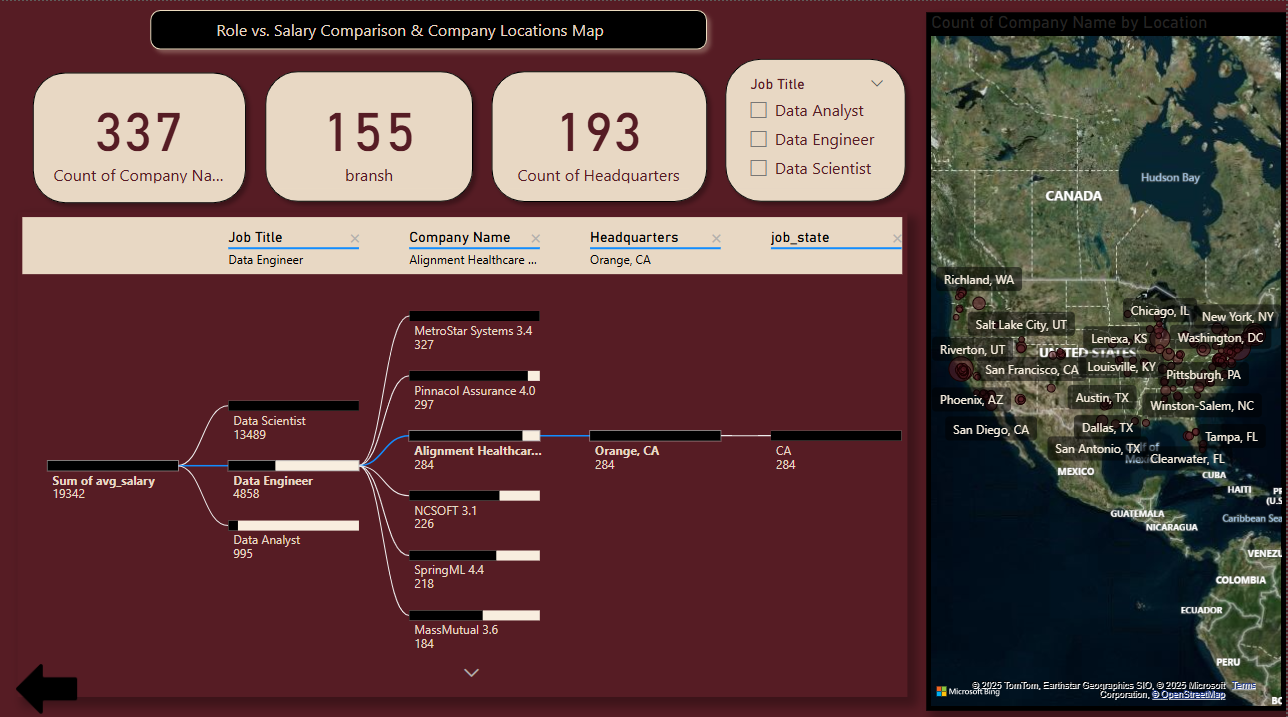

The page's visual inventory and layout, read from the dashboard file:
{"tool":"powerbi","page":{"name":"location","canvas":[1280,720],"ordinal":3},"visuals":[{"type":"decompositionTreeVisual","fields":{"Analyze":["Sum(salary_data_cleaned.avg_salary)"],"ExplainBy":["salary_data_cleaned.Job Title","salary_data_cleaned.Company Name","salary_data_cleaned.Headquarters","salary_data_cleaned.job_state"]},"box":[17.4,210.2,885.7,482.7],"z":0},{"type":"map","fields":{"Category":["salary_data_cleaned.Location"],"Size":["CountNonNull(salary_data_cleaned.Company Name)"]},"box":[921.8,11.2,358.3,695.4],"z":1000},{"type":"shape","box":[23.6,62.2,230.1,148],"z":2000},{"type":"shape","box":[255.3,61.2,225.2,148],"z":3000},{"type":"shape","box":[480.4,61.2,232.6,148],"z":4000},{"type":"shape","box":[712.8,48.5,197.8,160.5],"z":5000},{"type":"slicer","fields":{"Values":["salary_data_cleaned.Job Title"]},"box":[733.9,69.7,158,116.9],"z":6000},{"type":"card","fields":{"Values":["Count(salary_data_cleaned.Company Name)"]},"box":[45.5,81.6,184.1,104.5],"z":7000},{"type":"card","fields":{"Values":["salary_data_cleaned.bransh"]},"box":[274.4,81.6,185.3,104.5],"z":8000},{"type":"card","fields":{"Values":["Count(salary_data_cleaned.Headquarters)"]},"box":[505.8,81.6,179.1,104.5],"z":9000},{"type":"shape","box":[140.6,0,572.2,57.2],"z":10000},{"type":"textbox","box":[210.2,12.4,429.2,32.3],"z":11000},{"type":"image","box":[0,649.1,92.1,70.9],"z":12000},{"type":"shape","box":[36.1,678.9,31.1,12.4],"z":13000}]}

Visuals, with their boxes in screenshot pixels (x1, y1, x2, y2), scaled from the page's 1280x720 canvas onto the 1288x717 screenshot:
decompositionTreeVisual - Sum(salary_data_cleaned.avg_salary) x salary_data_cleaned.Job Title: box=[18, 209, 909, 690]
map - salary_data_cleaned.Location x CountNonNull(salary_data_cleaned.Company Name): box=[928, 11, 1287, 704]
shape: box=[24, 62, 255, 209]
shape: box=[257, 61, 484, 208]
shape: box=[483, 61, 717, 208]
shape: box=[717, 48, 916, 208]
slicer - salary_data_cleaned.Job Title: box=[738, 69, 897, 186]
card - Count(salary_data_cleaned.Company Name): box=[46, 81, 231, 185]
card - salary_data_cleaned.bransh: box=[276, 81, 463, 185]
card - Count(salary_data_cleaned.Headquarters): box=[509, 81, 689, 185]
shape: box=[141, 0, 717, 57]
textbox: box=[212, 12, 643, 45]
image: box=[0, 646, 93, 716]
shape: box=[36, 676, 68, 688]
